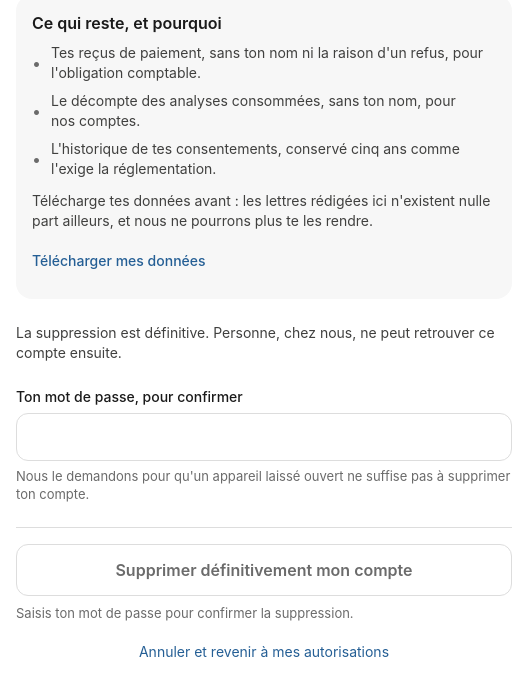
Test: Suppression de compte › confirme au lieu de renvoyer ailleurs sans un mot
(page scrolled)
Type "demonstration-2026" into the password field labelled "Ton mot de passe, pour confirmer".
click(264, 437); type("demonstration-2026")  # box [16,413,512,461]
(page scrolled)
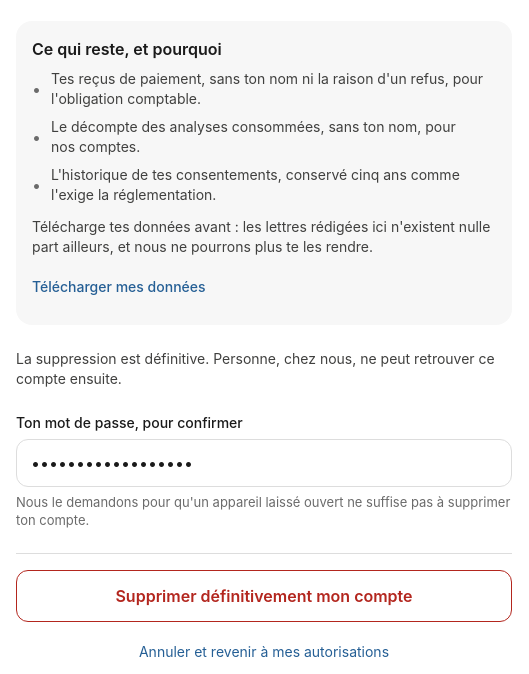
Click the button "Supprimer définitivement mon compte".
click(264, 596)  # box [16,570,512,622]
(page scrolled)
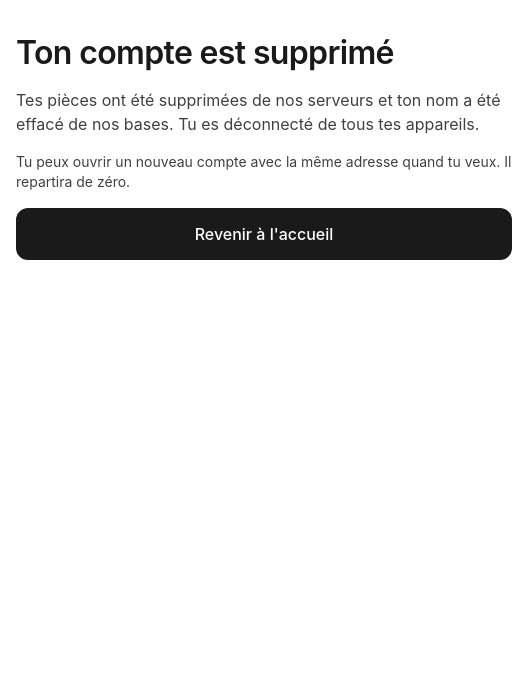
Now the heading "Ton compte est supprimé" is shown, box [16,33,394,72]
Now the text "ouvrir un nouveau compte avec la même adresse" is shown, box [16,153,512,190]
